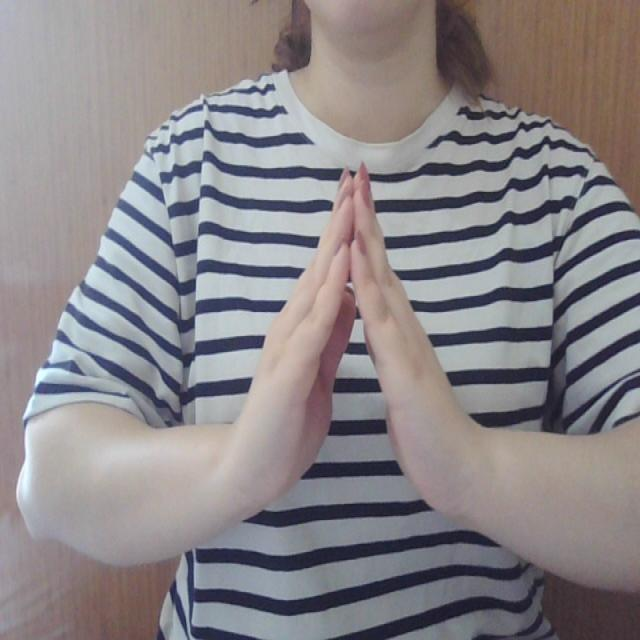Ev: (234, 156, 472, 504)
